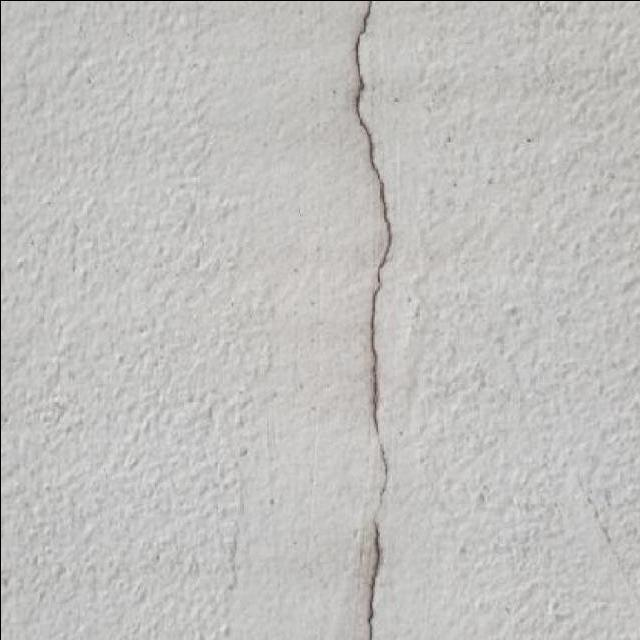Crack: (352, 0, 393, 639)
